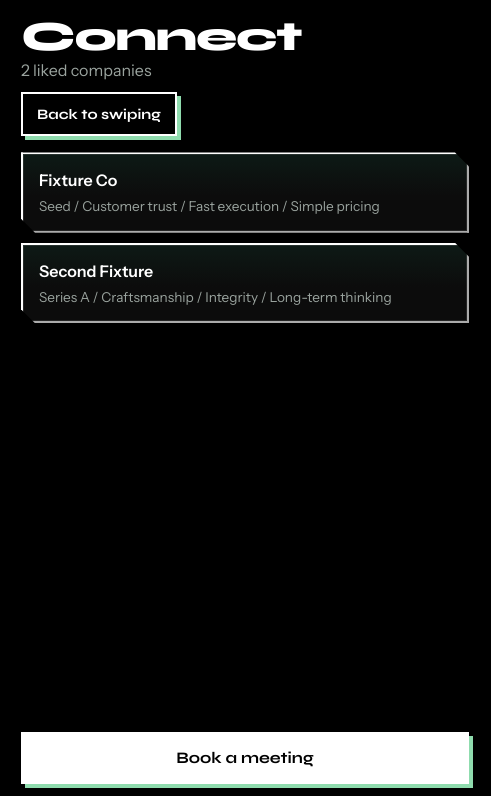
Test: Connect › offers Book a meeting in a bottom bar under the likes, not on a single profile
Expected: the element "Book a meeting" is shown, [21,720,469,795]
Click the button "Book a meeting".
click(245, 758)  # box [21,732,469,784]
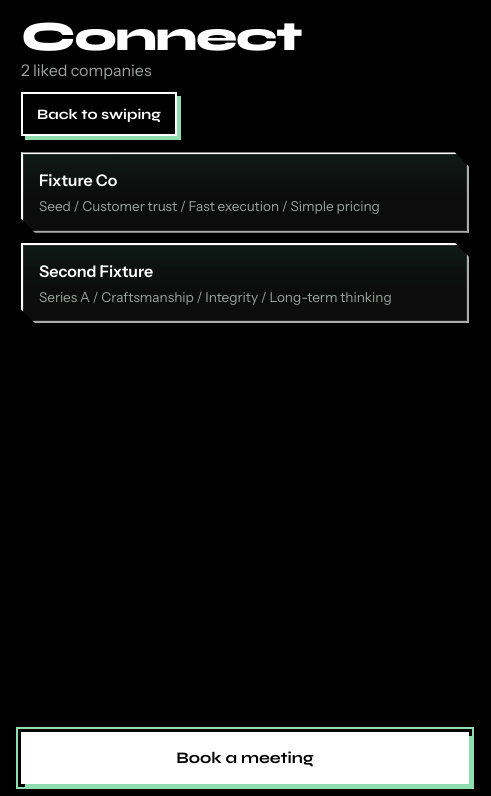
Click the button "Fixture Co".
click(78, 180)  # box [21,152,469,233]
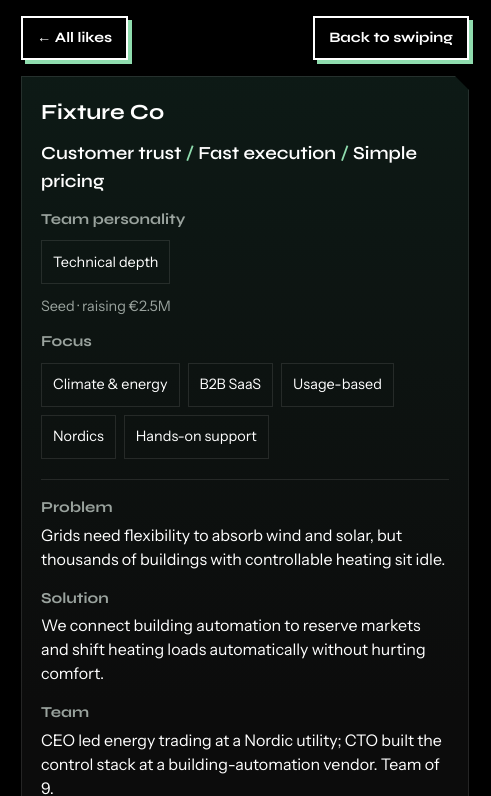
Expected: the button "Book a meeting" is gone
